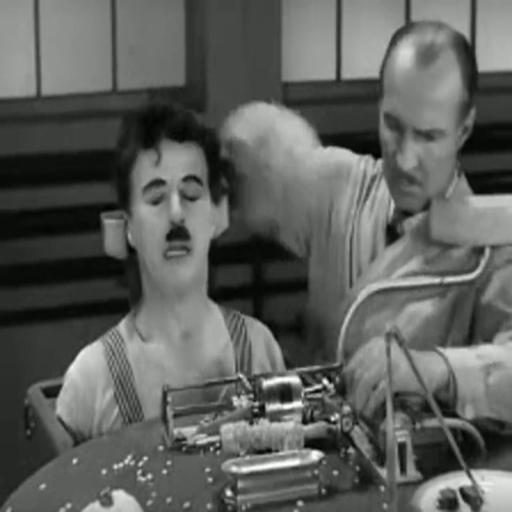nao-violencia: (50, 11, 510, 450)
